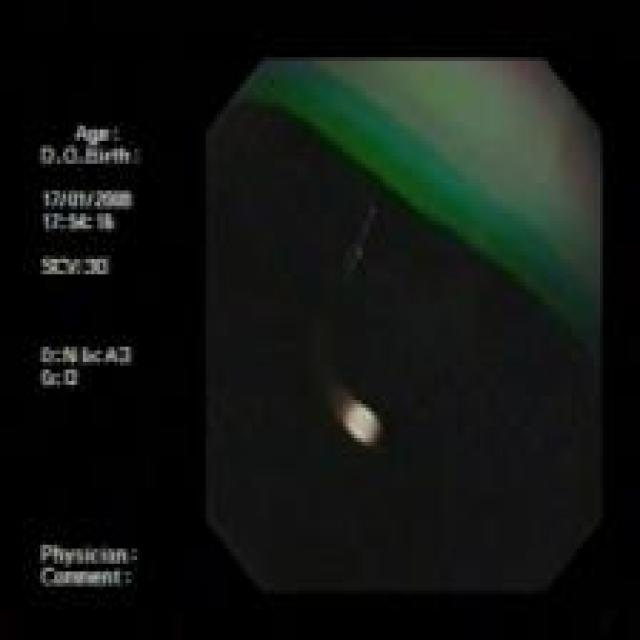color misalignment: (205, 58, 600, 593), (239, 54, 600, 328), (36, 117, 148, 594), (319, 376, 387, 453)
